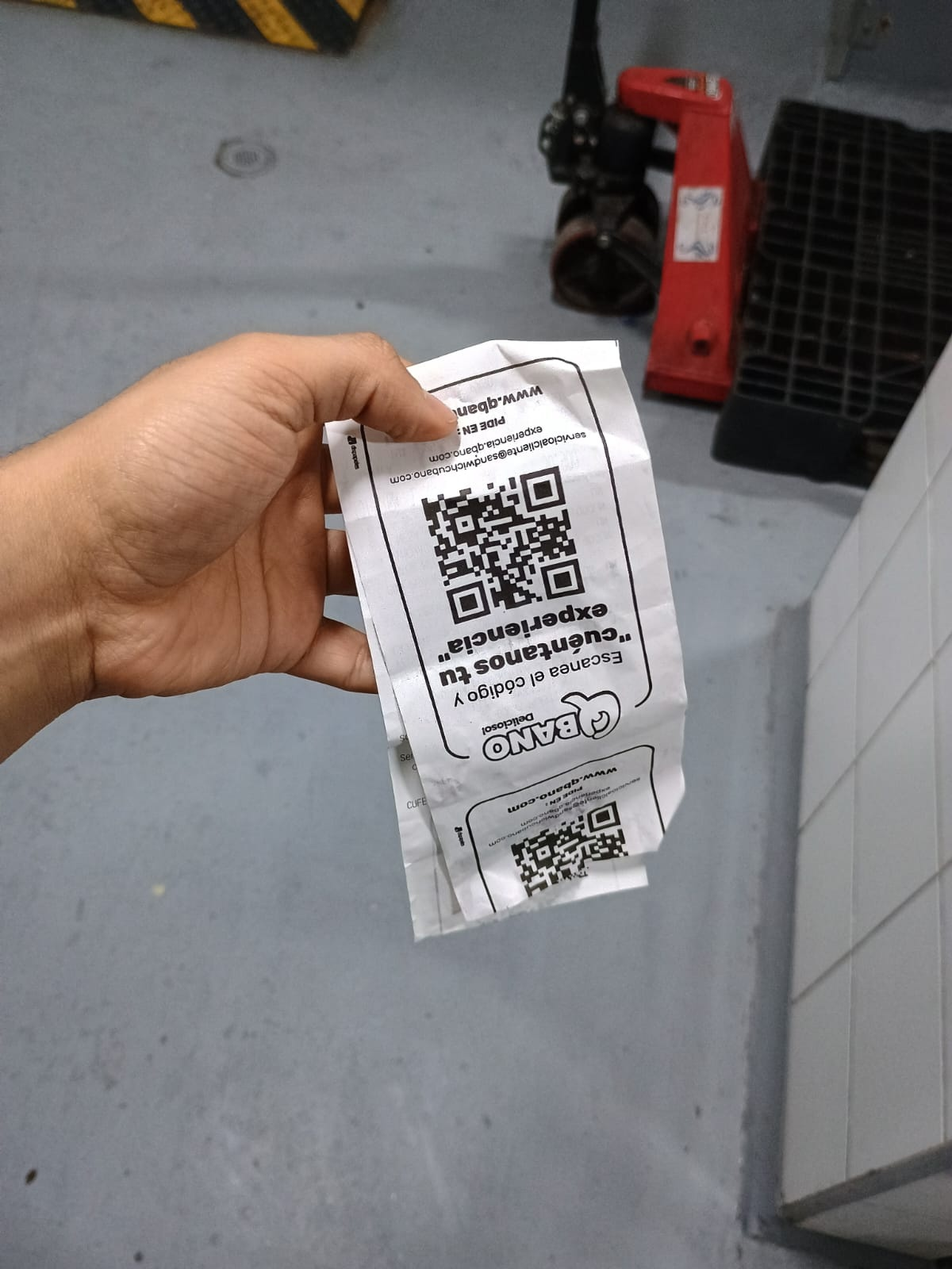Papel: (322, 336, 687, 943)
